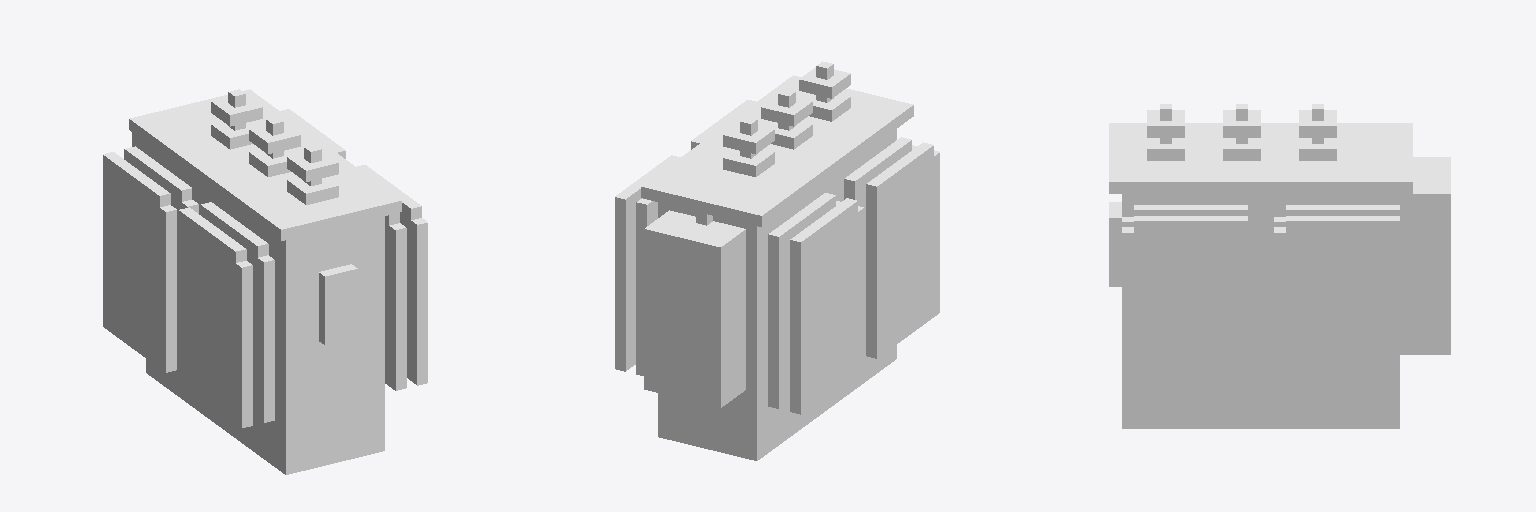
Rendered from GDS2_Transformer.obj.
3 renders of one model, left to right at view 1: azimuth 30°, elevation 25°; view 2: azimuth 150°, elevation 25°; view 3: azimuth 270°, elevation 25°, orthographic.
Visible parts, largest first — view 1: GDS2_Transformer; view 2: GDS2_Transformer; view 3: GDS2_Transformer.
Boxes of the visible parts, box(x1,y1,x2,y2) form: GDS2_Transformer: box(103, 89, 427, 474); GDS2_Transformer: box(615, 61, 939, 460); GDS2_Transformer: box(1109, 104, 1450, 428).
Size of the model in its own units: 1.7 by 2.6 by 2.7.